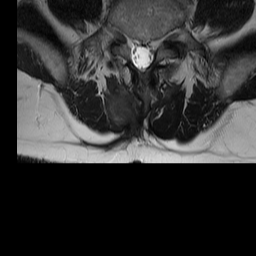CCS_normal: (138, 31, 146, 79)
LFS_stenosis: (155, 27, 165, 53)
LLS_normal: (146, 31, 155, 73)
RFS_stenosis: (120, 24, 130, 55)
RLS_normal: (130, 29, 138, 73)
